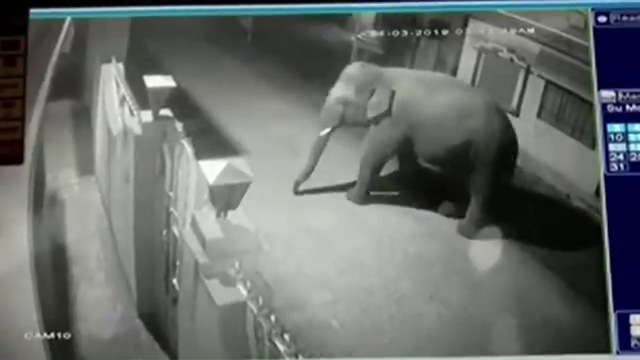Elephant: (292, 62, 519, 240)
